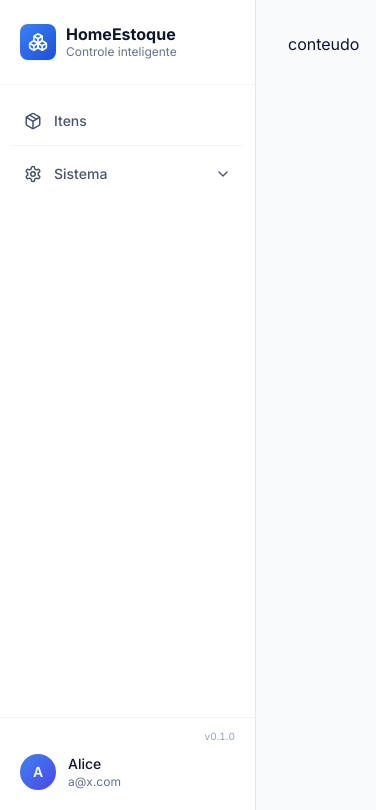
Scenario: Layout — menu Sistema › submenu 'Usuários' só com users.manage, 'Permissões' só com roles.manage
This screenshot has width=376, height=810.
Expected: the text "Alice" is shown, [68,755,101,772]
// Sistema fechado por default — expandir
Step 1. Click the button "Sistema" → {"x": 128, "y": 174}, box [12,154,243,194]
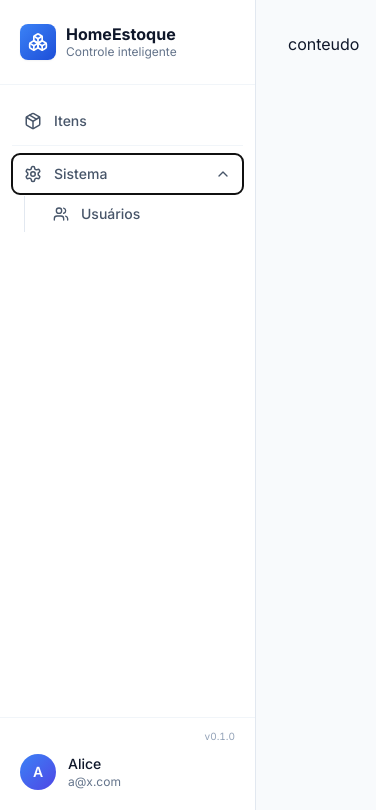
Result: the link "Usuários" is shown at [53,205,140,222]
